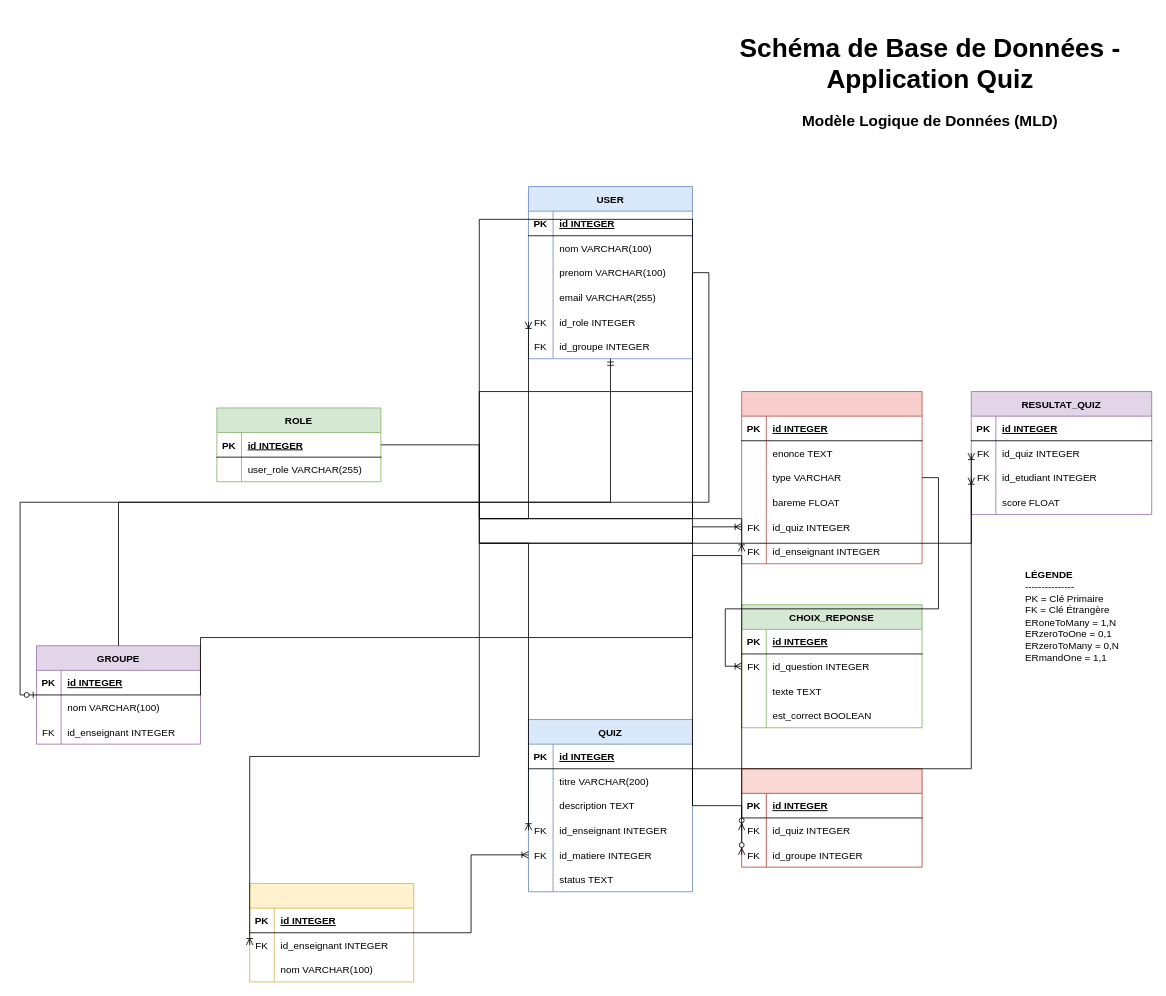
Image size: 1166x996. Some labels were removed from this diagram. The box of each missing label's shape, as (x1, y1, x2, y2) in pixels:
MATIERE: (249, 883, 414, 982)
QUESTION: (741, 391, 922, 564)
QUIZ_GROUPE: (741, 768, 922, 867)
